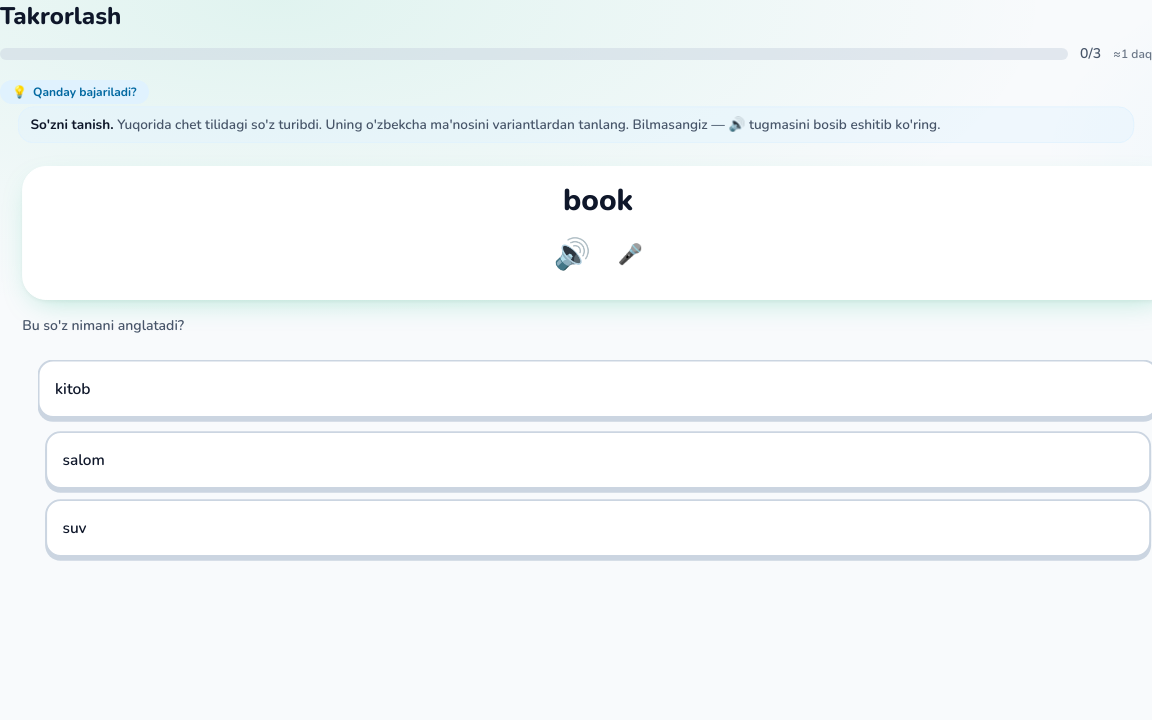
Test: ReviewScreen — mashq oqimi › xato javobda ozi otmaydi — qaror foydalanuvchida qoladi
The width and height of the screenshot is (1152, 720).
Expected: the text "0/3" is shown, [1080, 44, 1101, 64]
Click the button "salom". click: (84, 460)
box: [45, 431, 1151, 489]
(page scrolled)
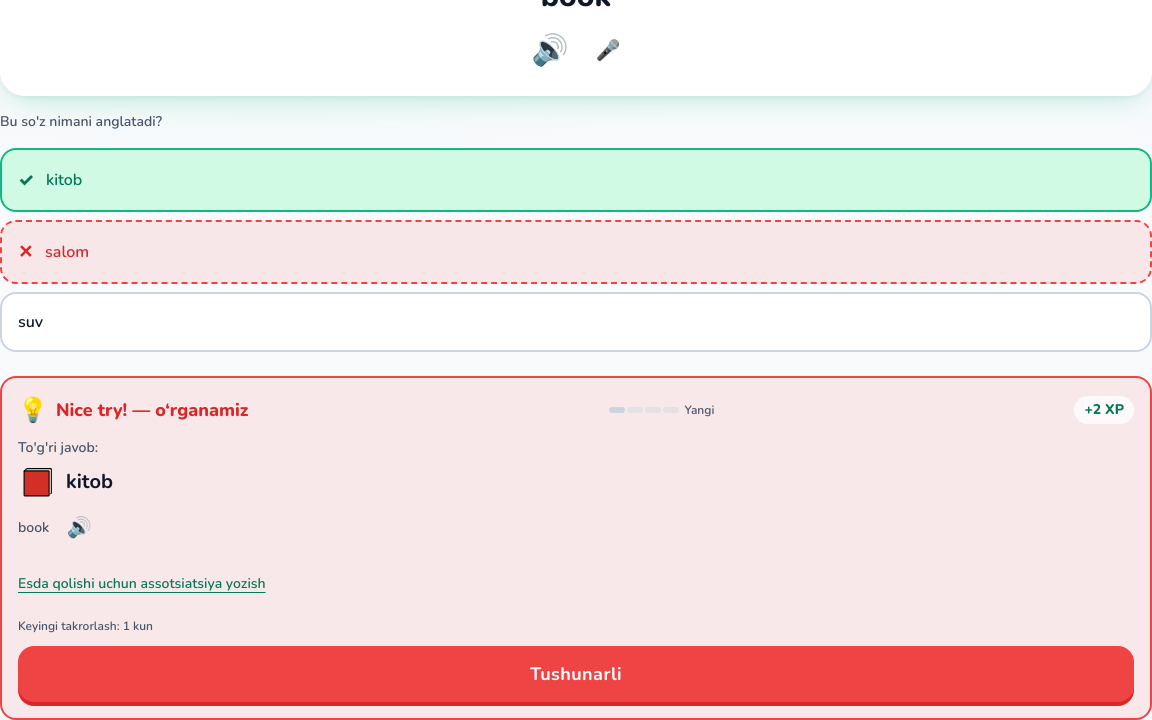
Expected: the text "Nice try! — o‘rganamiz" is shown, [56, 396, 248, 424]
Expected: the button "Tushunarli" is shown, [18, 646, 1134, 702]
